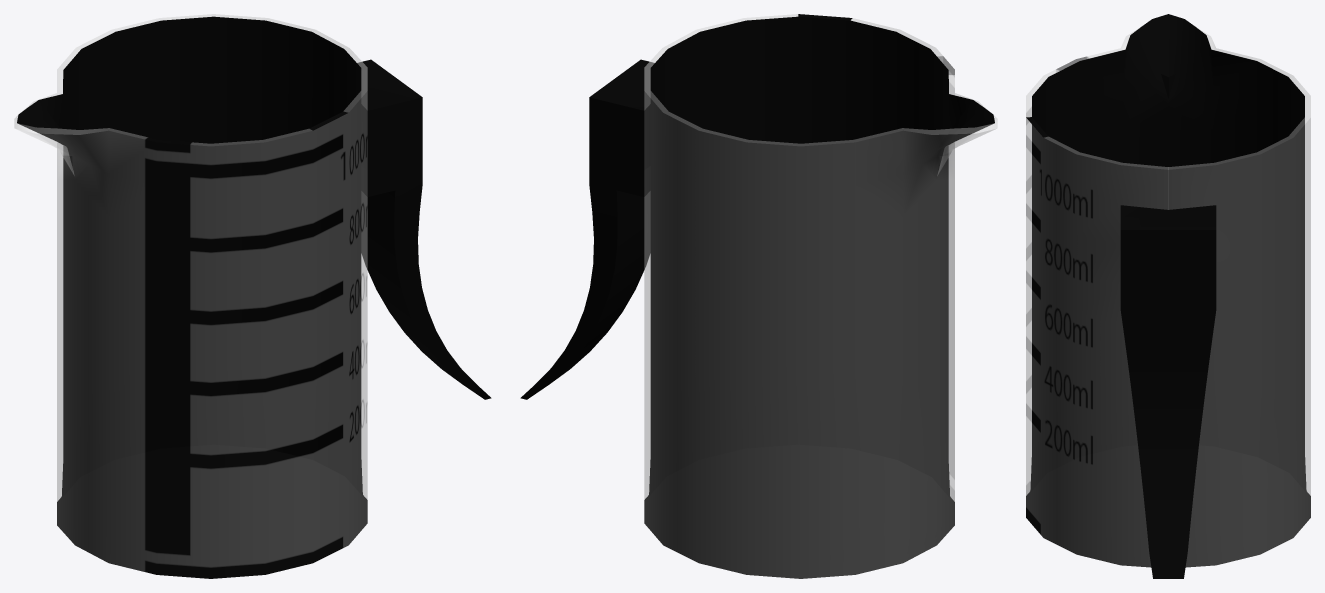
3 renders of one model, left to right at view 1: azimuth 30°, elevation 25°; view 2: azimuth 150°, elevation 25°; view 3: azimuth 270°, elevation 25°, orthographic. The views are drawn at different scales.
Parts seen in each view (by area): view 1: Cylinder001; view 2: Cylinder001; view 3: Cylinder001.
Boxes of the visible parts, left/top/right/bottom form: Cylinder001: left=14, top=14, right=491, bottom=578; Cylinder001: left=520, top=14, right=997, bottom=578; Cylinder001: left=1026, top=14, right=1310, bottom=578.
Bounding box in the file's own units: 17.03 × 15.16 × 9.67.
Materials: 3 (1 with a texture image).
